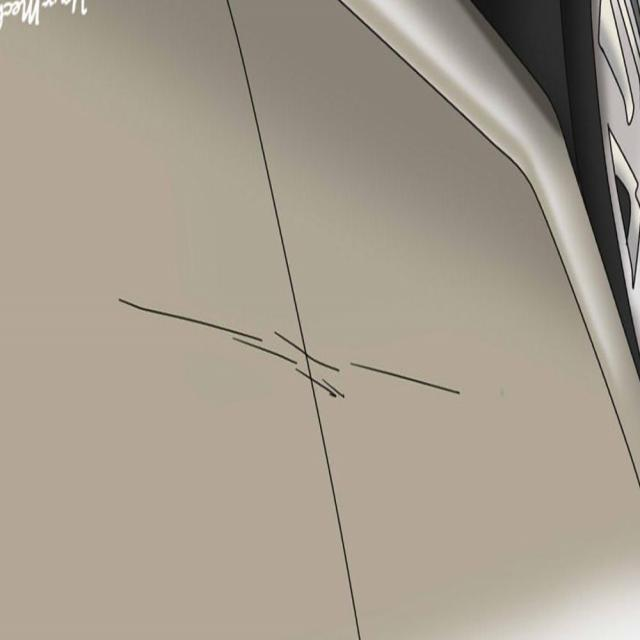scratch: (108, 293, 346, 425), (347, 350, 478, 412)
